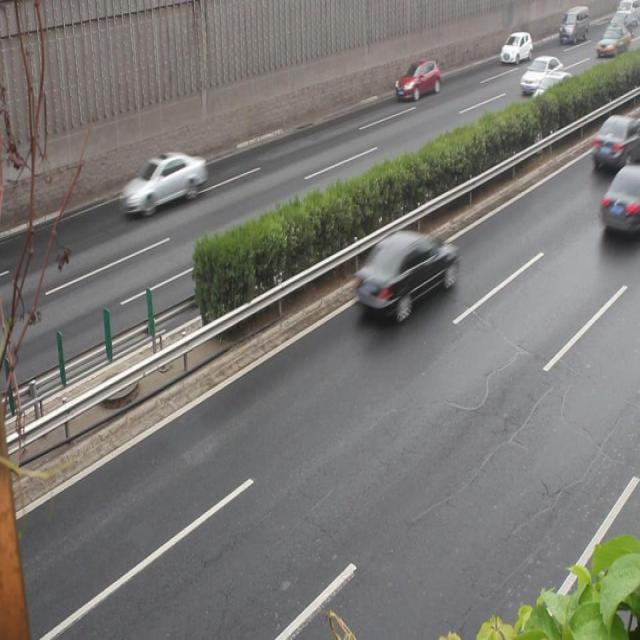car: (354, 230, 457, 321), (119, 152, 208, 217), (600, 164, 640, 238), (592, 112, 640, 170), (529, 72, 576, 118), (394, 59, 439, 103), (519, 55, 562, 96), (498, 31, 531, 66)
